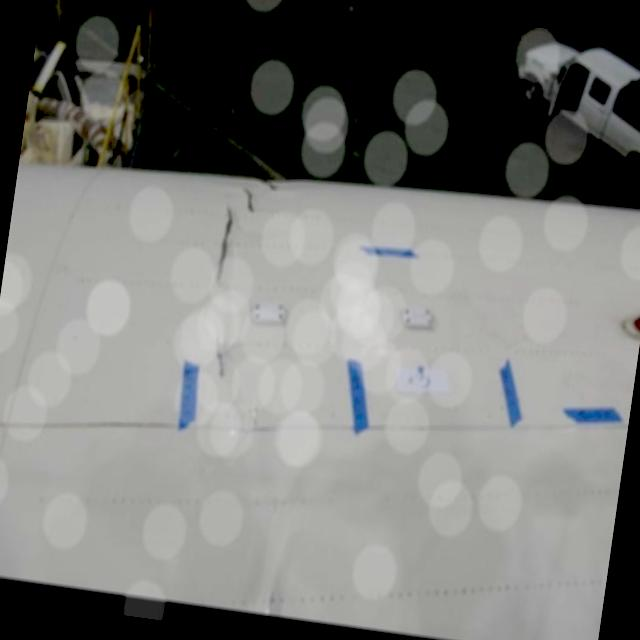crack: (210, 202, 235, 292), (210, 336, 232, 380), (238, 184, 257, 213)
